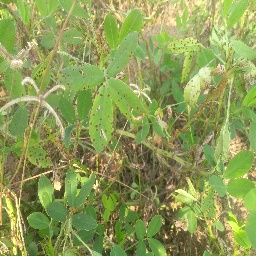GroundNut_Leaf: (89, 86, 113, 154), (115, 82, 149, 128), (112, 32, 139, 79), (183, 68, 211, 109), (221, 220, 253, 253), (222, 148, 256, 179), (20, 137, 53, 168), (63, 66, 108, 85), (37, 174, 56, 216), (79, 170, 97, 208), (9, 105, 30, 135), (61, 1, 90, 21), (229, 39, 256, 59), (228, 1, 247, 29), (239, 90, 256, 121), (70, 213, 98, 231), (225, 181, 256, 197), (37, 1, 56, 27), (167, 39, 202, 53), (1, 21, 16, 51), (65, 170, 77, 207), (202, 188, 216, 219), (6, 69, 21, 96), (124, 9, 142, 31), (60, 98, 75, 123), (36, 65, 50, 89), (146, 215, 161, 237), (59, 28, 82, 42), (203, 143, 216, 167), (147, 241, 165, 256), (40, 33, 55, 49), (102, 195, 115, 213), (19, 1, 30, 22), (30, 218, 49, 229), (110, 246, 127, 254), (184, 7, 188, 25)
